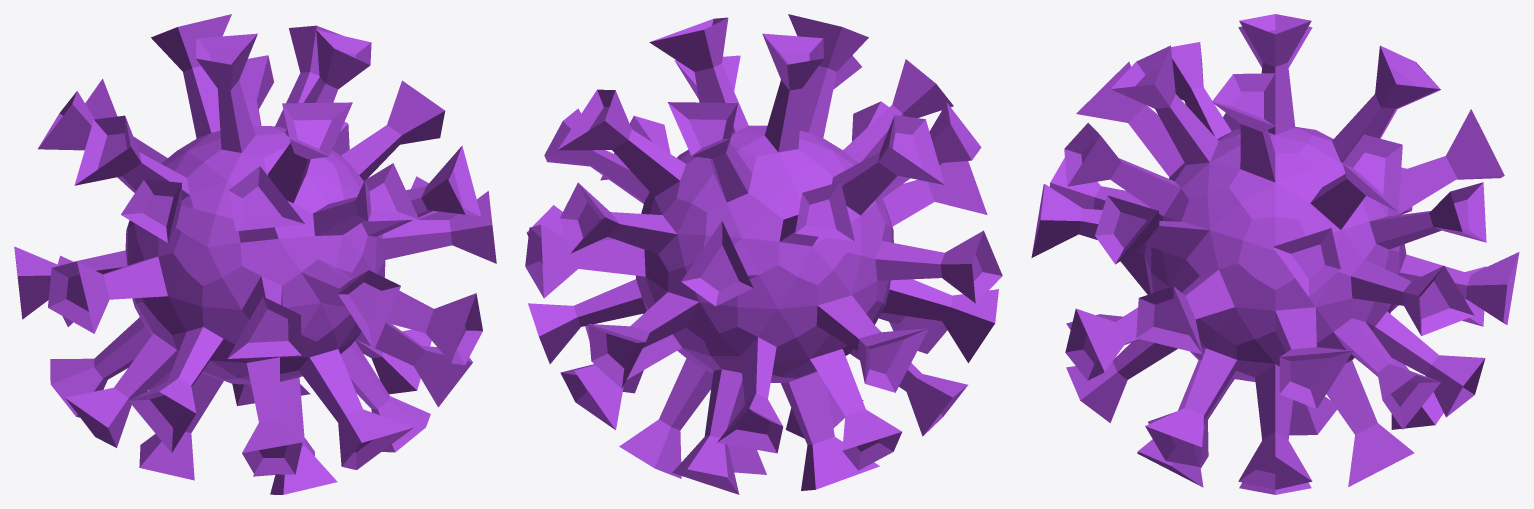
File: corona.fbx
3 views of the same model, side by side, from view 1: azimuth 30°, elevation 25°; view 2: azimuth 150°, elevation 25°; view 3: azimuth 270°, elevation 25° (orthographic).
Parts seen in each view (by area): view 1: Icosphere; view 2: Icosphere; view 3: Icosphere.
Part boxes in pixels (bbox=[...]): Icosphere: bbox=[14, 14, 496, 494]; Icosphere: bbox=[525, 14, 1002, 494]; Icosphere: bbox=[1031, 14, 1519, 494].
Size of the model in its own units: 0.9953 by 1 by 1.
